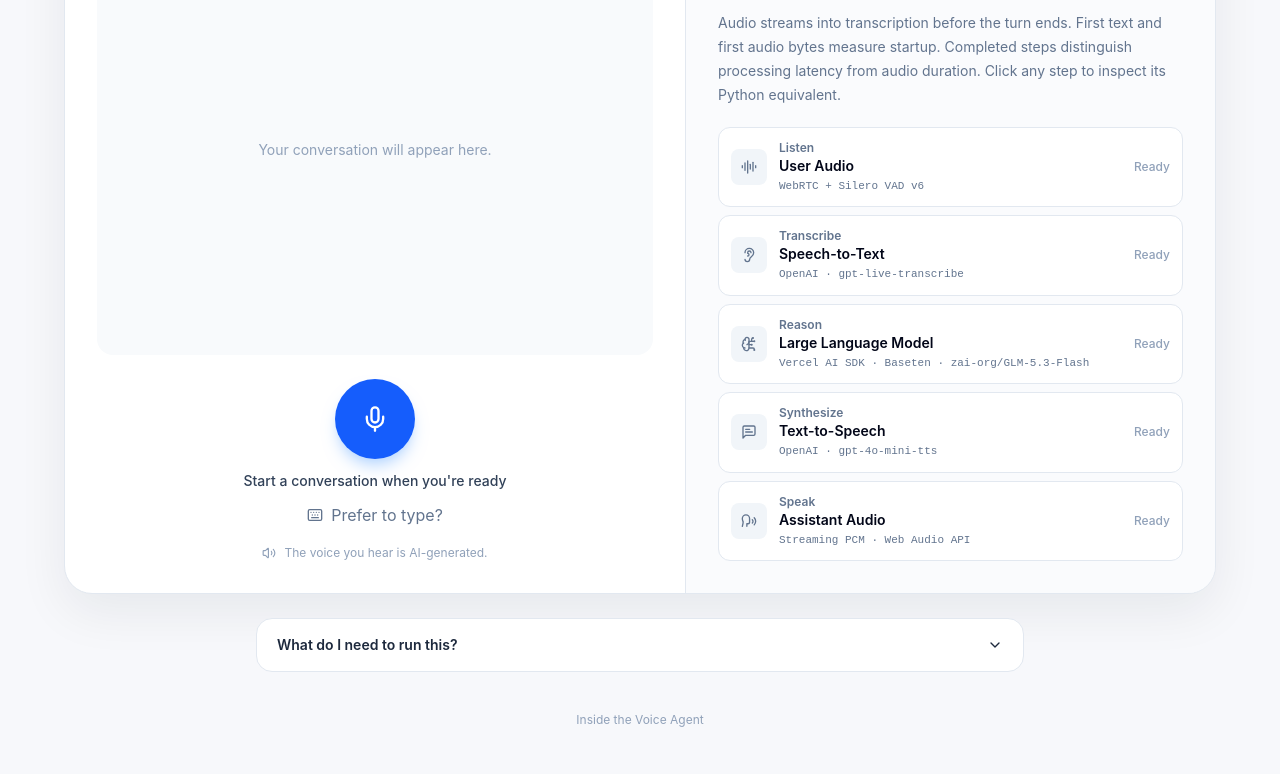
Test: AppShell › does not reopen Cascaded microphone capture after New conversation cancels startup
(page scrolled)
Step 1. Click the button named "Start conversation" → (375, 419), box [335, 379, 415, 459]
(page scrolled)
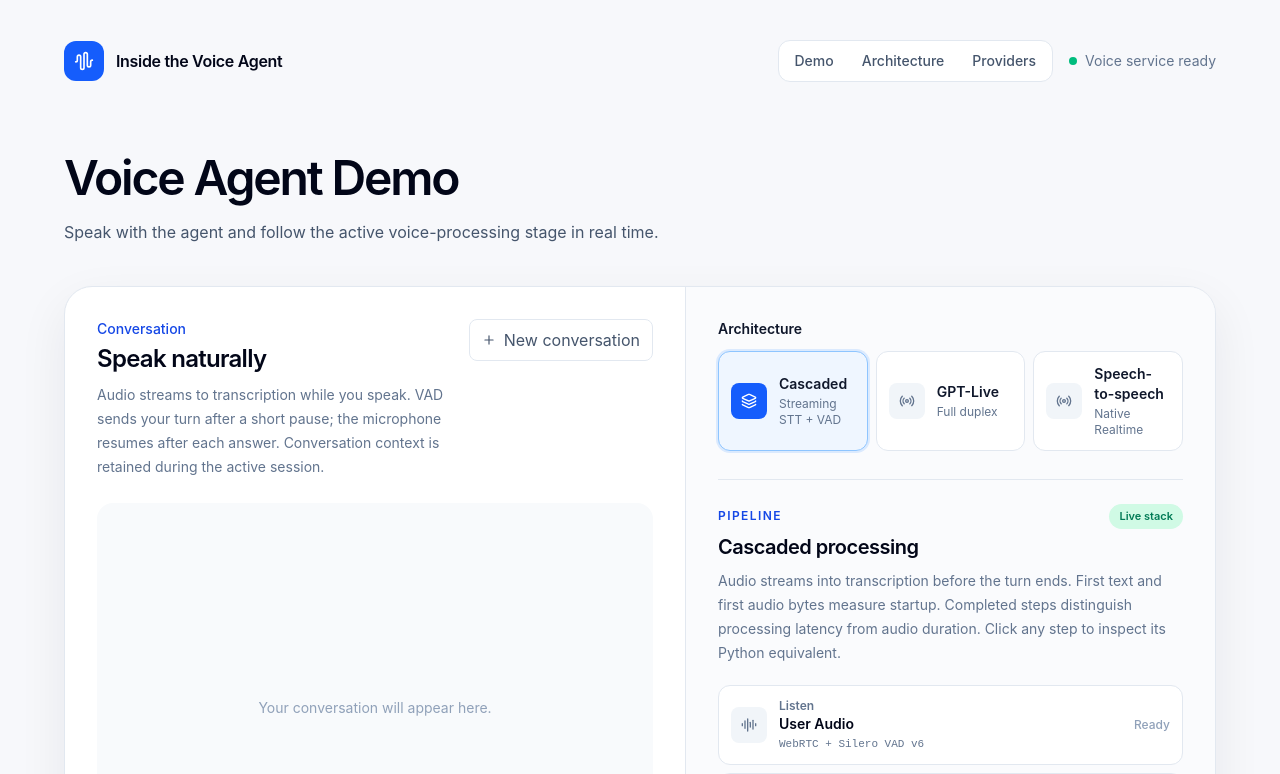
Step 2. Click the button "New conversation" → (561, 340), box [469, 319, 653, 361]
(page scrolled)
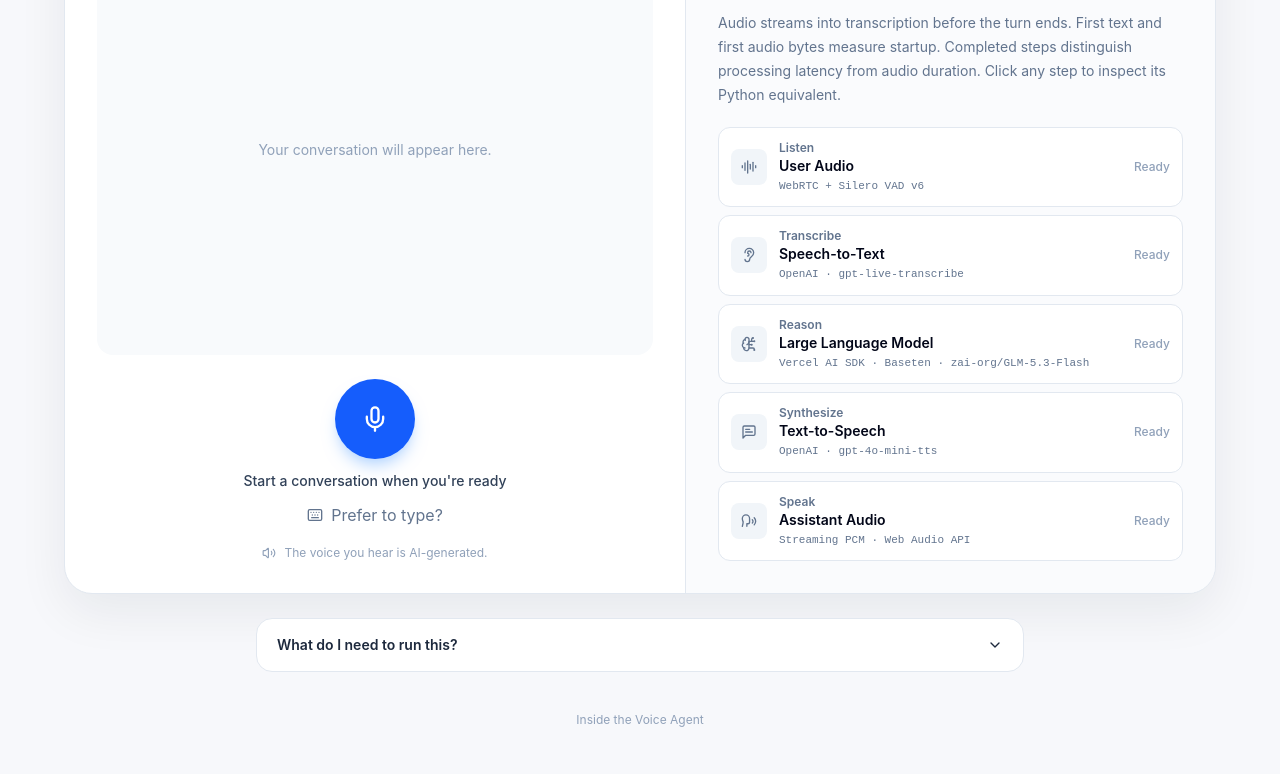
Expected: the text "Start a conversation when you're ready" is shown, [244, 472, 506, 489]
